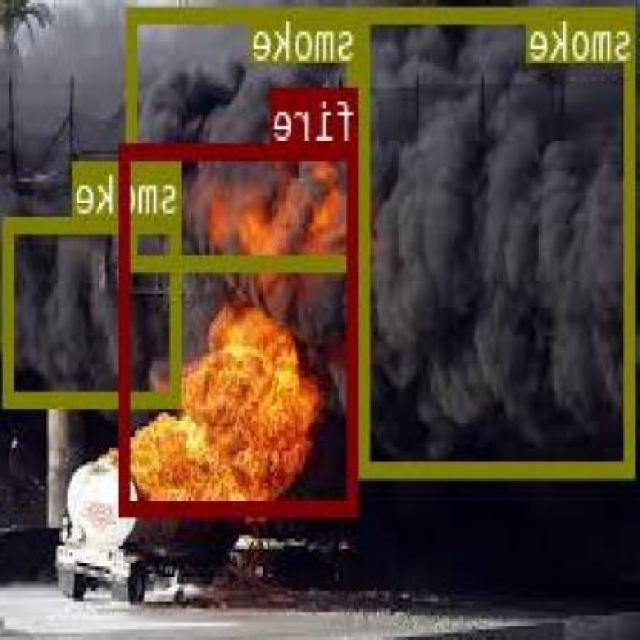Fire: (122, 140, 358, 512)
Smoke: (362, 6, 636, 472), (128, 5, 361, 268), (6, 213, 182, 404)
